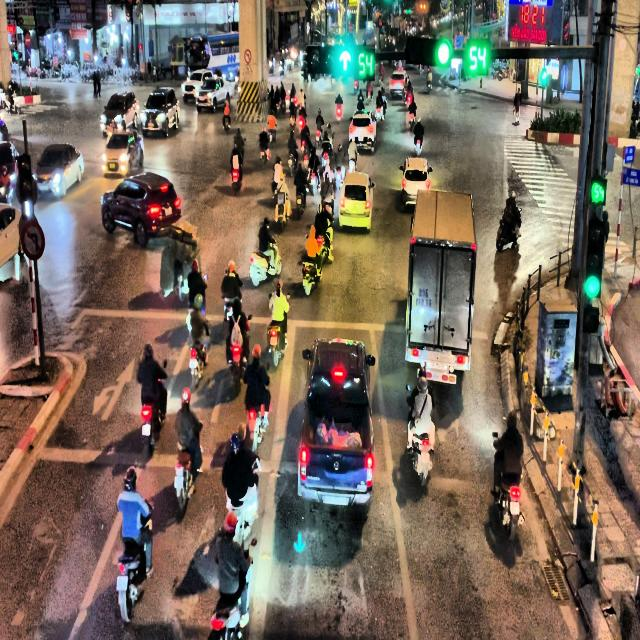lisence_plate: (416, 288, 433, 316), (322, 492, 349, 507), (426, 360, 450, 376), (509, 500, 520, 516), (164, 207, 172, 216), (350, 205, 360, 212)
